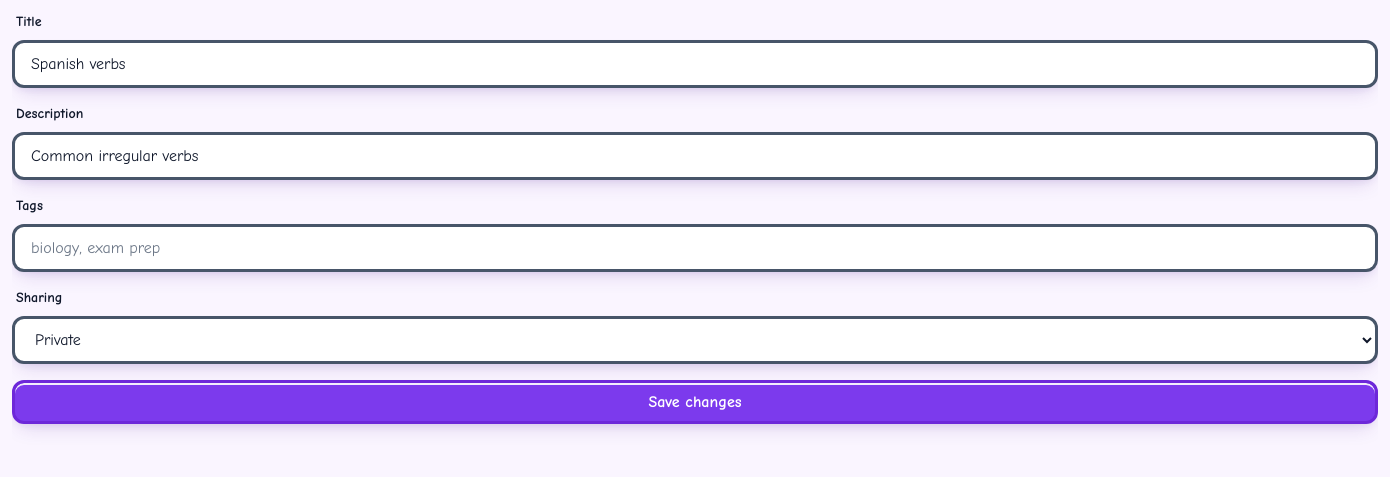
Test: EditSetForm › shows an error and does not submit an empty title
Clear the field labelled "Title" at (695, 64), box x1=12 y1=40 x2=1378 y2=88
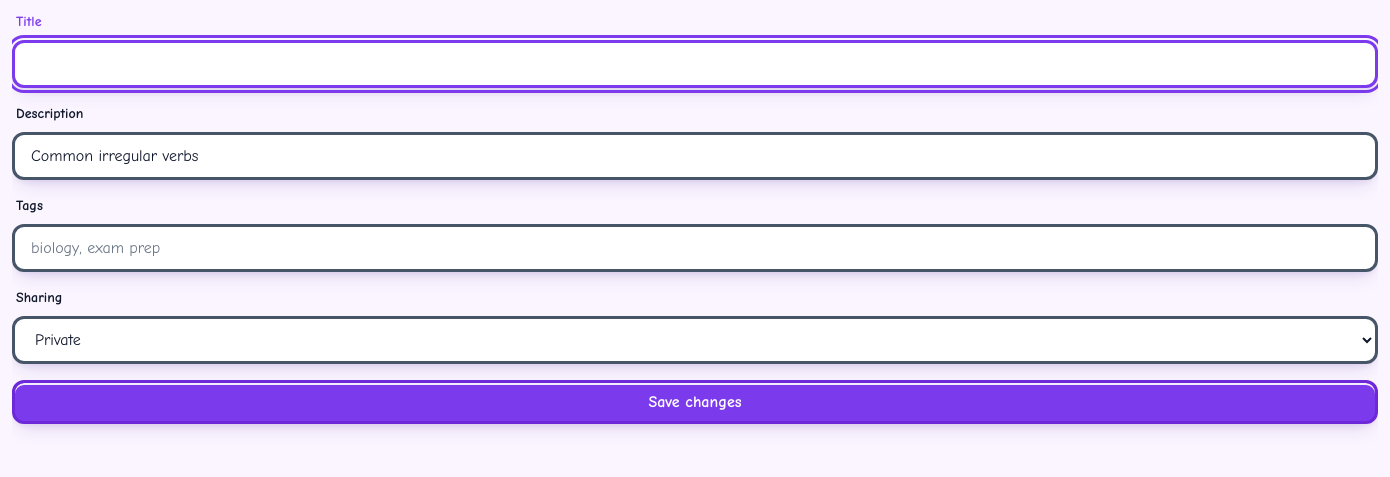
Click the button "Save changes" at (695, 402), box x1=12 y1=380 x2=1378 y2=424
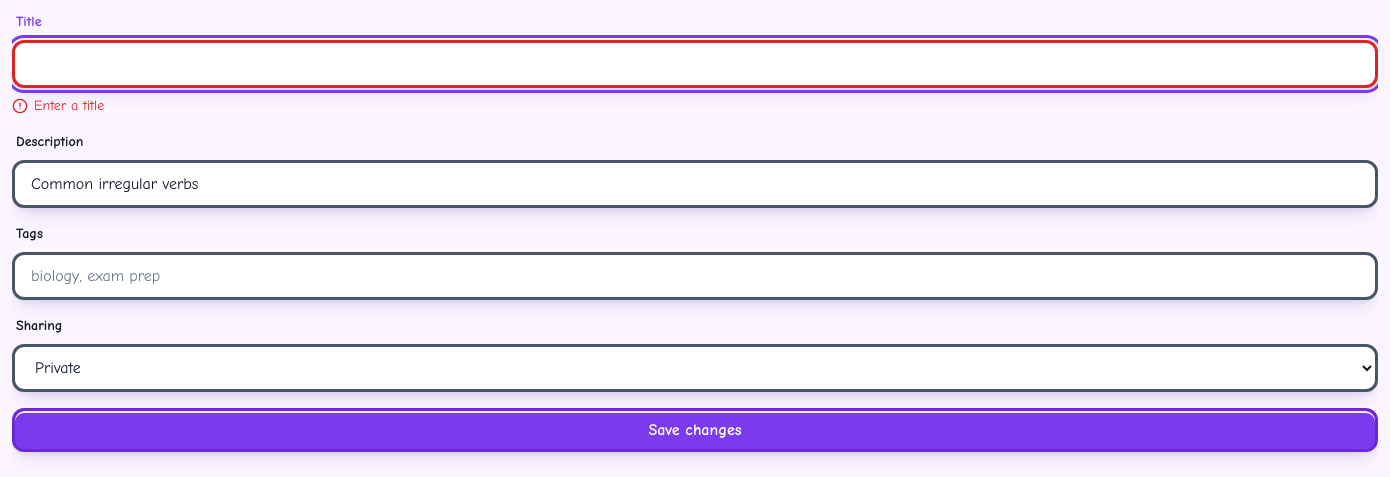
expect the message reads "Enter a title": met, box x1=34 y1=97 x2=104 y2=114
